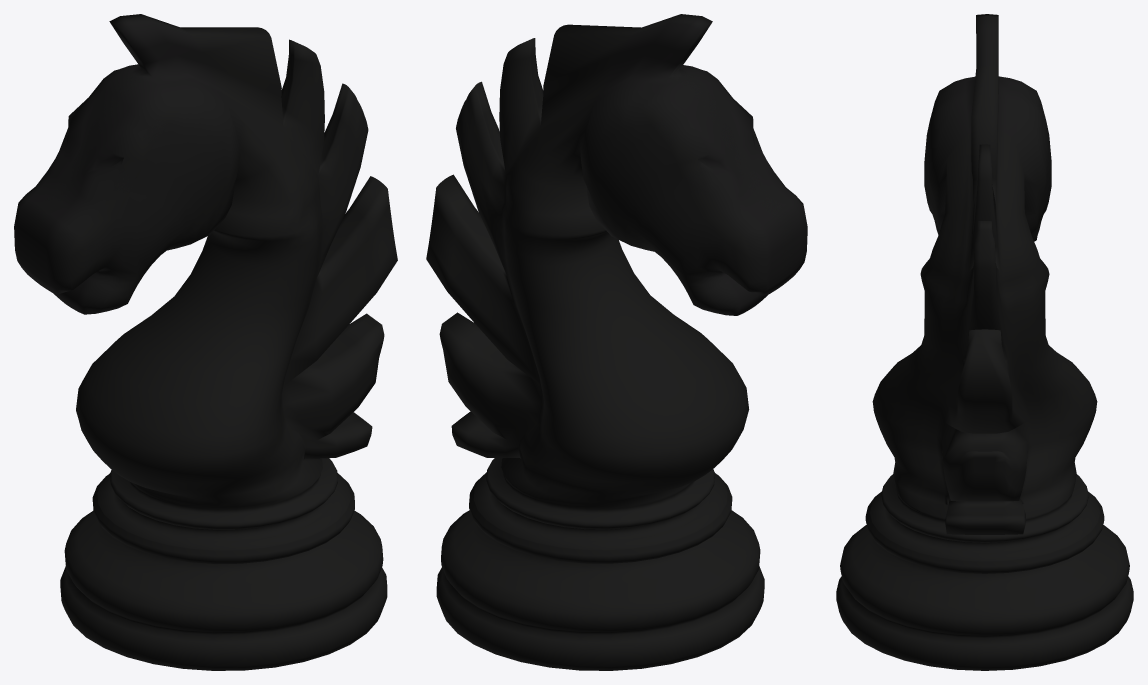
File: Knight.fbx
3 views of the same model, side by side, from view 1: azimuth 30°, elevation 25°; view 2: azimuth 150°, elevation 25°; view 3: azimuth 270°, elevation 25° (orthographic). The views are drawn at different scales.
Parts seen in each view (by area): view 1: Kn Body.001; view 2: Kn Body.001; view 3: Kn Body.001.
Part boxes in pixels (x1,y1,x2,y2): Kn Body.001: (14,14,397,670); Kn Body.001: (426,14,807,670); Kn Body.001: (836,14,1133,670).
Size of the model in its own units: 231 by 284 by 474.
